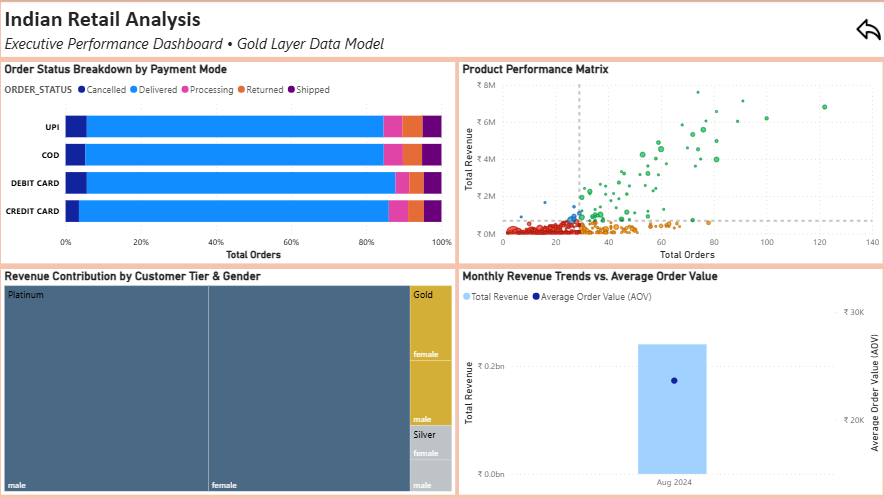

What the dashboard file says about the page in this screenshot:
{"tool":"powerbi","page":{"name":"Performance Matrix","canvas":[1280,720],"ordinal":1},"visuals":[{"type":"hundredPercentStackedBarChart","title":" Order Status Breakdown by Payment Mode","fields":{"Category":["FACT_SALES.PAYMENT_MODE"],"Y":["FACT_SALES.Total Orders"],"Series":["FACT_SALES.ORDER_STATUS"]},"box":[5,88.9,654.3,290.2],"z":0},{"type":"scatterChart","title":"Product Performance Matrix","fields":{"X":["FACT_SALES.Total Orders"],"Y":["FACT_SALES.Total Revenue"],"Category":["DIM_PRODUCTS.PRODUCT_NAME"],"Size":["FACT_SALES.Product Bubble Size Index"]},"box":[664.3,88.9,610,290],"z":1000},{"type":"treemap","title":" Revenue Contribution by Customer Tier & Gender","fields":{"Group":["DIM_CUSTOMERS.CUSTOMER_TIER"],"Details":["DIM_CUSTOMERS.GENDER"],"Values":["FACT_SALES.Total Revenue"]},"box":[5,387.5,654.3,325.5],"z":2000},{"type":"lineStackedColumnComboChart","title":"Monthly Revenue Trends vs. Average Order Value","fields":{"Category":["DIM_DATE.Month-Year"],"Y":["FACT_SALES.Total Revenue"],"Y2":["FACT_SALES.Average Order Value (AOV)"]},"box":[664.3,387.5,610,325.5],"z":3000},{"type":"textbox","box":[5,3.4,1273.3,79],"z":5000},{"type":"image","box":[1231.3,20.1,45.3,45.3],"z":5001}]}

Visuals, with their boxes in screenshot pixels (x1, y1, x2, y2), scaled from the page's 1280x720 canvas onto the 884x498 screenshot:
" Order Status Breakdown by Payment Mode" hundredPercentStackedBarChart: (3, 61, 455, 262)
"Product Performance Matrix" scatterChart: (459, 61, 880, 262)
" Revenue Contribution by Customer Tier & Gender" treemap: (3, 268, 455, 493)
"Monthly Revenue Trends vs. Average Order Value" lineStackedColumnComboChart: (459, 268, 880, 493)
textbox: (3, 2, 883, 57)
image: (850, 14, 882, 45)
